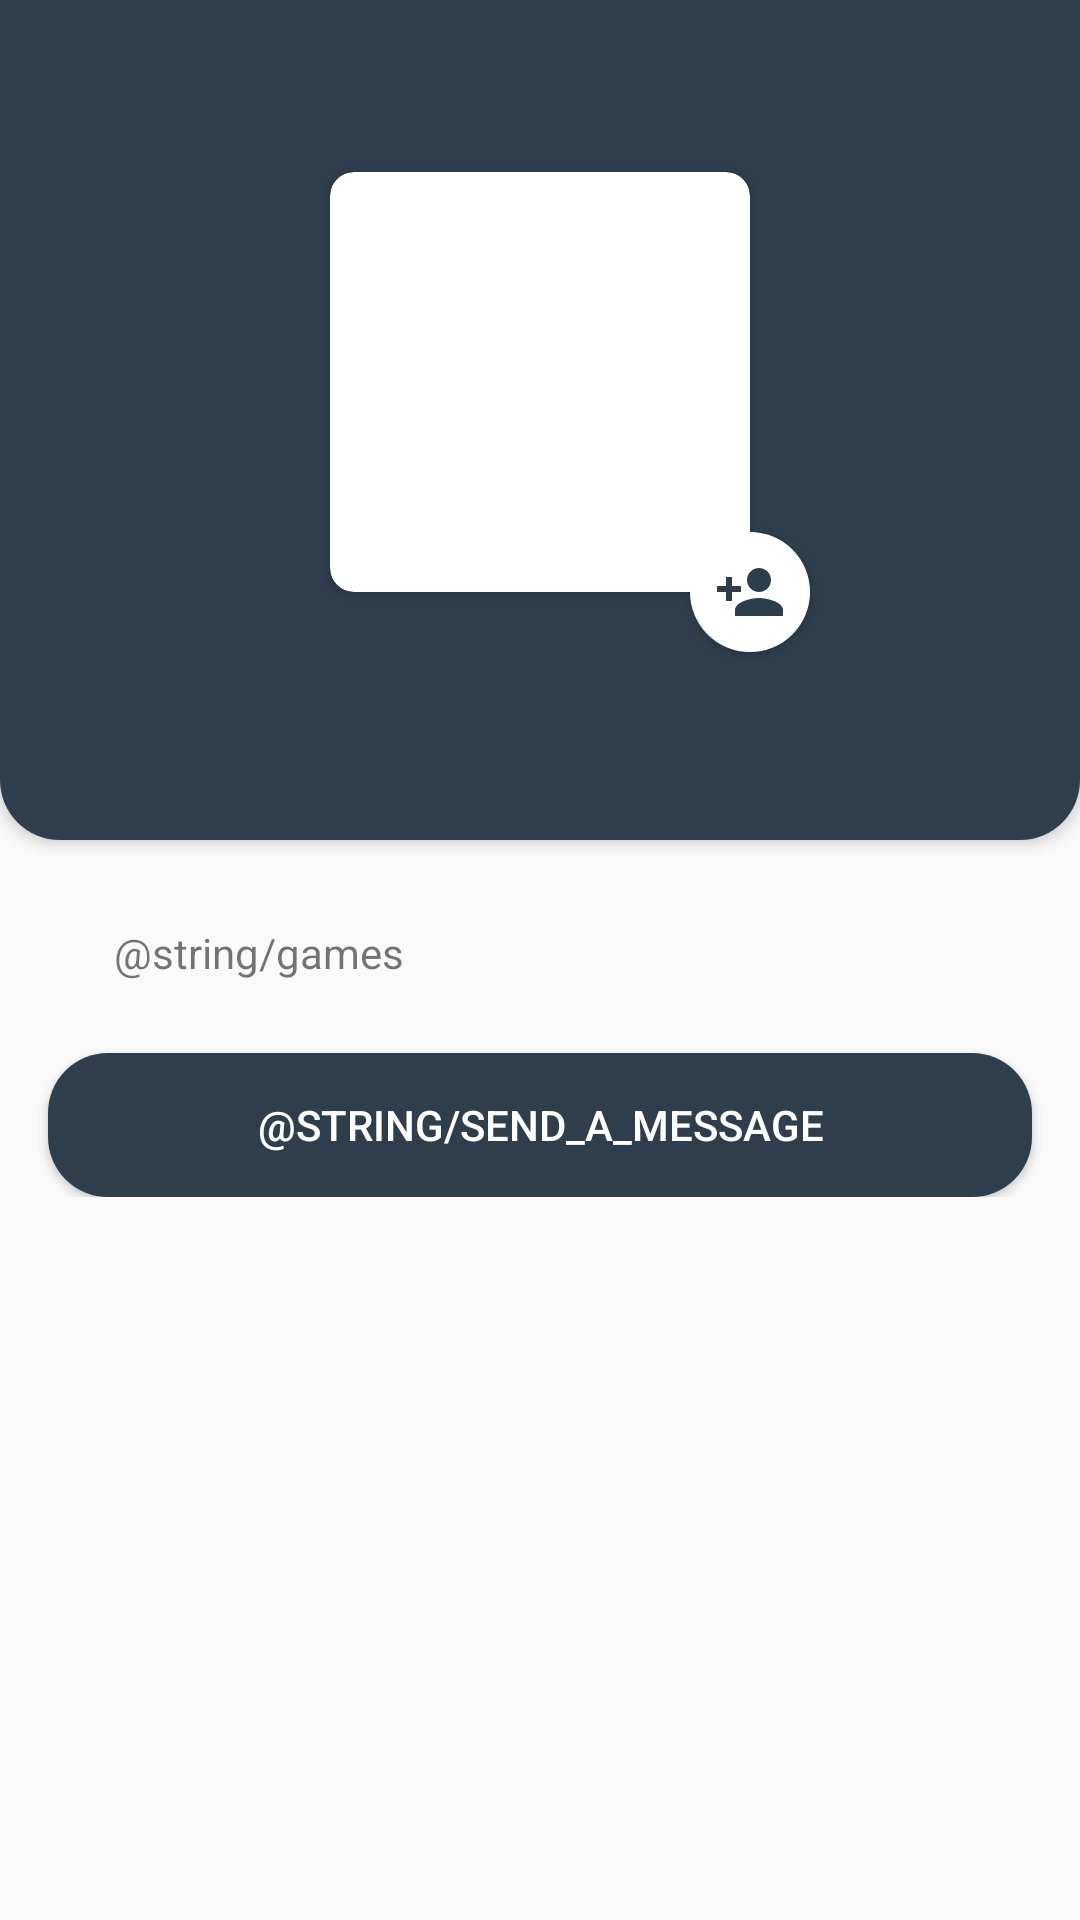

Locate icon controls on the screen. Image size 1080w x 1920h, boxes as [x1=x1, y1=y1, x2=x2, y2=y2].
person add: [x1=690, y1=532, x2=810, y2=652]
